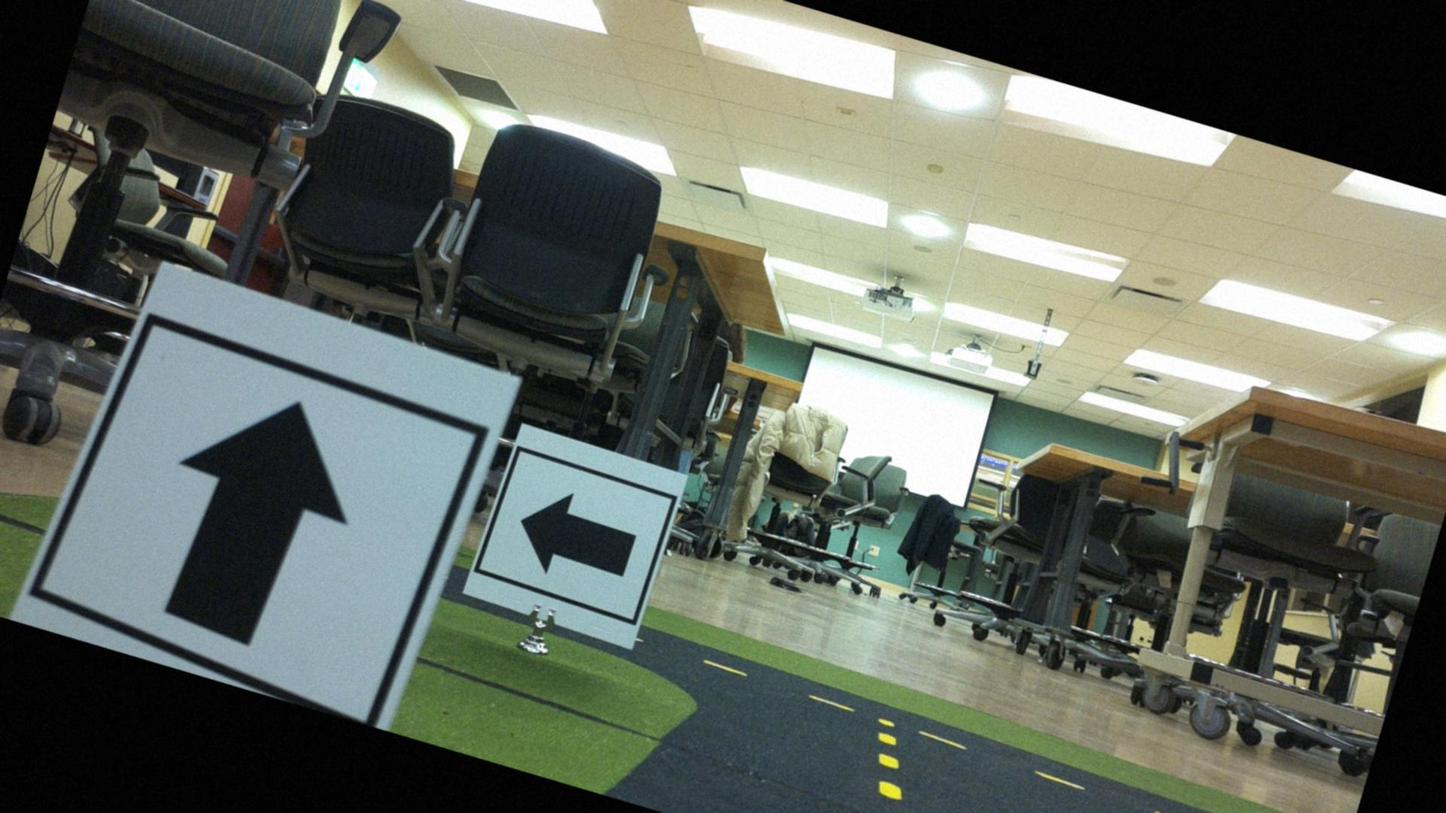gostraight: (57, 279, 493, 720)
turnleft: (471, 430, 688, 651)
yellowline: (840, 729, 958, 812)
